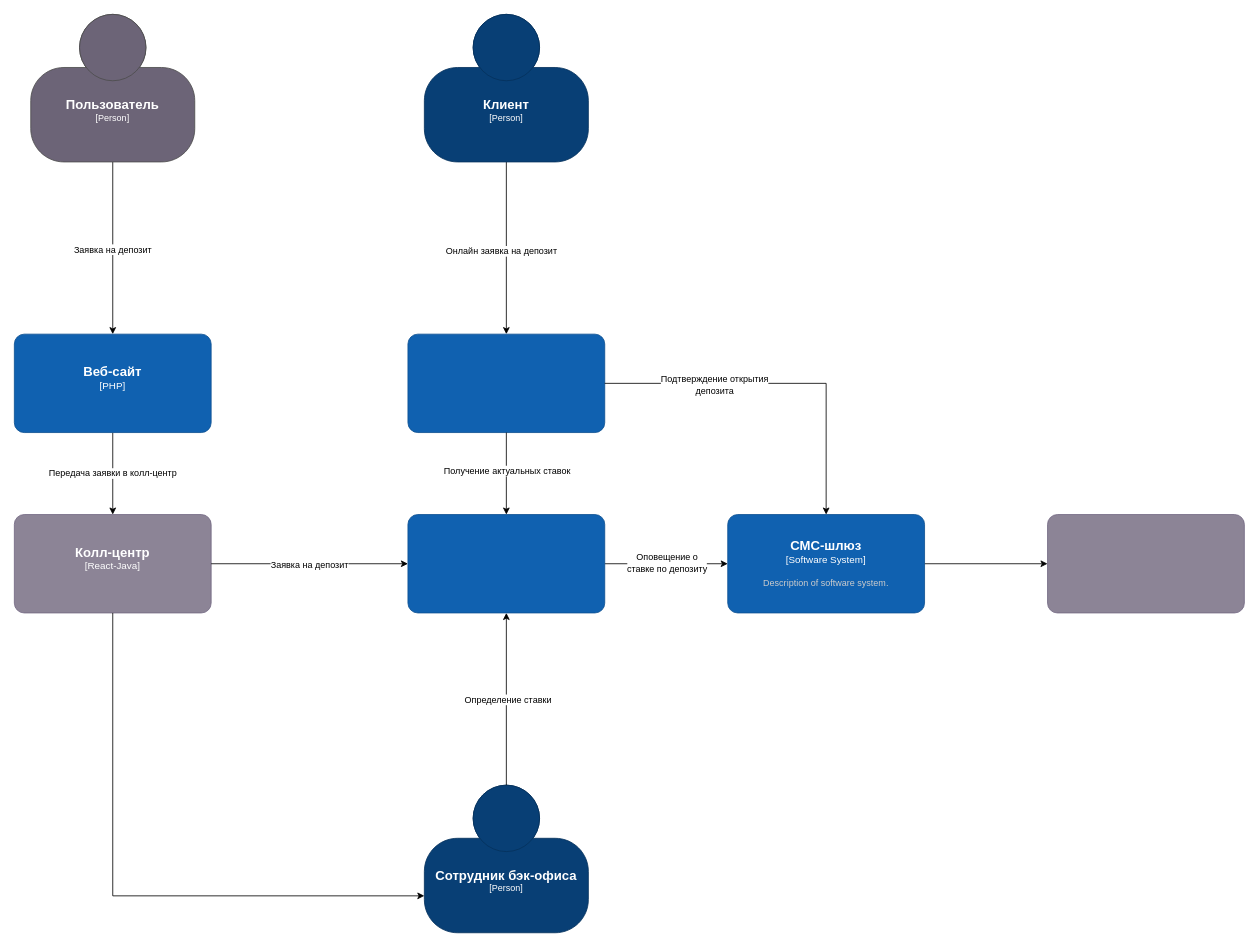
This 1259x947 diagram has some shape labels left out. The box of each missing label's shape, as (x1, y1, x2, y2) in pixels:
АБС [Delphi - Oracle] Description of software system.: (407, 514, 605, 613)
Интернет-банк [.NET]: (407, 333, 605, 433)
Телеком-оператор [Software System] Description of external software system.: (1047, 514, 1244, 613)
